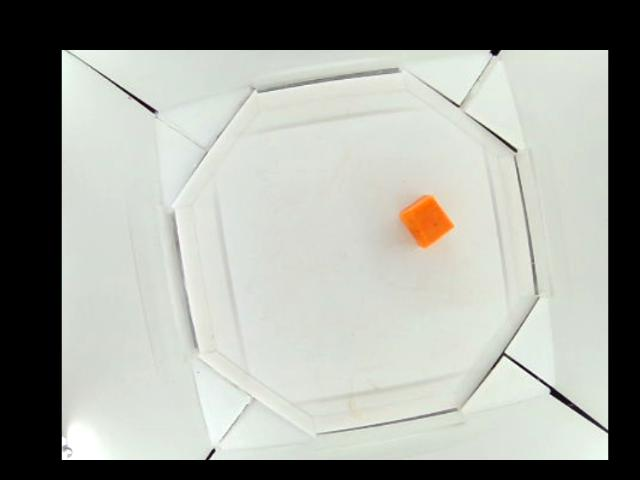Carrot: (401, 192, 454, 248)
